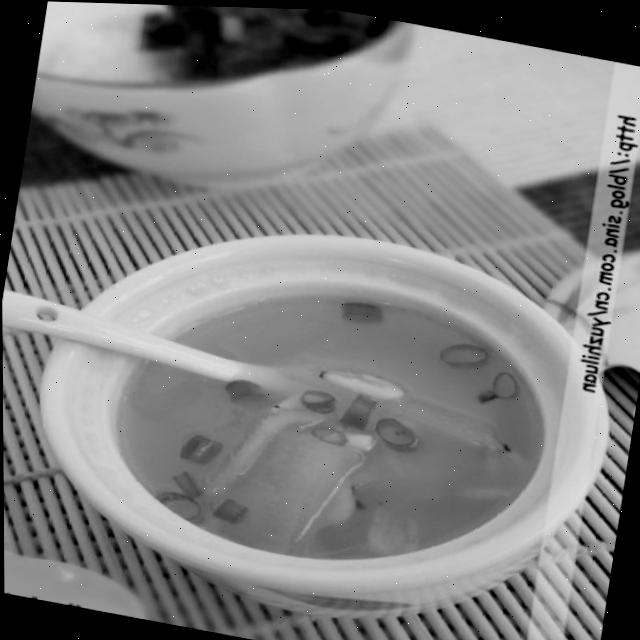汤锅炖物: (27, 178, 613, 640)
